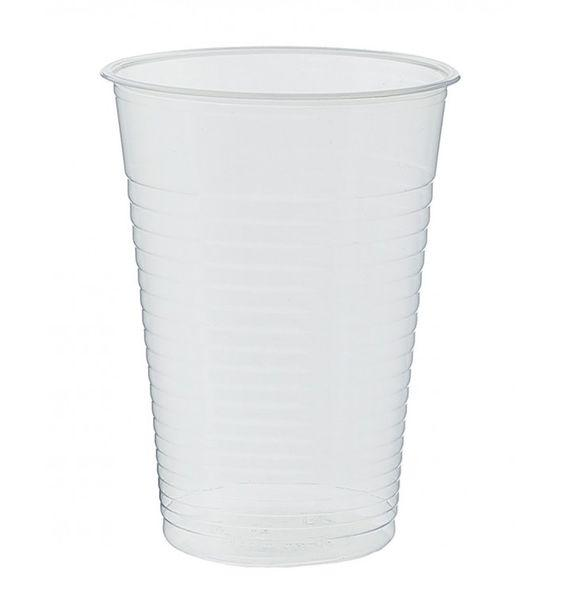PP: (103, 41, 463, 568)
